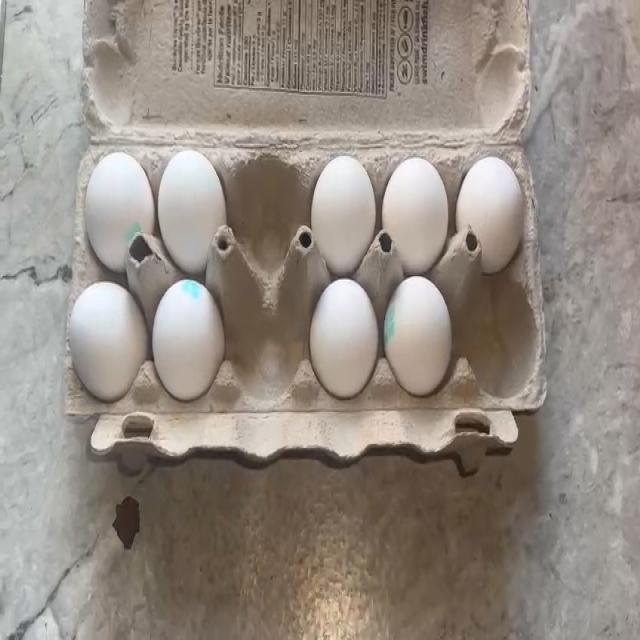Egg: (150, 286, 227, 386), (75, 286, 136, 396), (80, 149, 146, 250), (389, 162, 451, 266), (390, 279, 450, 379), (314, 148, 369, 255), (318, 274, 370, 384), (162, 146, 216, 246), (461, 158, 518, 248)
